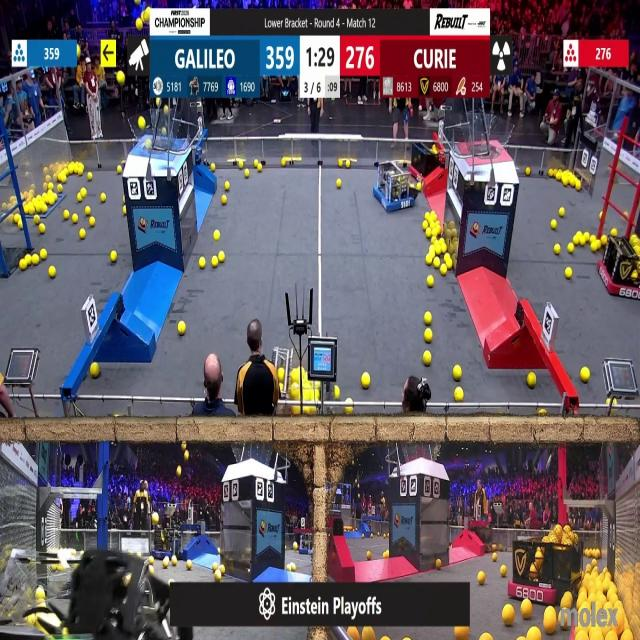ball_airborne: (346, 627, 359, 640), (456, 626, 468, 640), (362, 627, 373, 640), (138, 116, 146, 128), (116, 72, 124, 84), (151, 514, 157, 526), (137, 20, 143, 31), (176, 465, 182, 476), (144, 141, 151, 150), (155, 98, 160, 107), (145, 8, 150, 17), (162, 129, 168, 136), (165, 105, 169, 114), (184, 452, 188, 461)
ball_ground: (502, 605, 514, 626), (522, 601, 532, 619), (529, 629, 543, 640), (361, 374, 370, 389), (290, 368, 300, 381), (454, 364, 462, 380), (92, 362, 100, 377), (424, 328, 432, 342), (528, 374, 536, 388), (582, 367, 590, 381), (455, 387, 463, 400), (423, 352, 431, 365), (424, 312, 431, 326), (178, 321, 185, 335), (479, 570, 486, 584), (432, 256, 440, 268), (18, 261, 26, 272), (592, 242, 600, 253), (48, 267, 55, 279), (346, 406, 354, 416), (214, 570, 222, 580), (278, 367, 284, 380), (427, 276, 434, 287), (110, 251, 117, 262), (565, 269, 572, 280), (562, 175, 569, 186), (212, 256, 218, 268), (335, 386, 341, 398), (218, 252, 225, 262), (213, 232, 220, 242), (32, 254, 39, 264), (441, 266, 448, 276), (292, 408, 299, 418), (200, 257, 206, 268), (40, 249, 46, 260), (500, 565, 506, 576), (426, 255, 433, 264), (212, 562, 219, 571), (435, 560, 441, 570), (186, 560, 192, 570), (555, 244, 561, 254), (568, 244, 574, 254), (39, 223, 45, 233), (426, 230, 432, 240), (435, 246, 441, 256), (601, 236, 607, 246), (25, 205, 31, 215), (482, 634, 492, 640), (442, 244, 448, 254), (26, 255, 32, 265), (83, 208, 90, 216), (559, 208, 565, 217), (172, 557, 178, 566), (72, 214, 78, 223), (64, 211, 70, 220), (164, 559, 170, 568), (58, 183, 64, 192), (290, 564, 296, 573), (445, 254, 451, 263), (91, 216, 96, 226), (552, 219, 557, 229), (579, 238, 584, 248), (383, 552, 389, 560), (100, 192, 106, 200), (492, 554, 498, 562), (244, 170, 250, 178), (80, 188, 86, 196), (610, 230, 616, 238), (524, 168, 530, 176), (221, 197, 227, 205), (546, 170, 552, 178), (76, 192, 82, 200), (585, 234, 591, 242), (47, 183, 53, 191), (556, 173, 562, 181), (430, 212, 436, 220), (417, 182, 422, 191), (575, 181, 580, 190), (448, 261, 453, 270), (423, 220, 428, 229), (256, 166, 262, 173), (572, 237, 578, 244), (80, 230, 84, 240), (346, 161, 351, 169), (35, 215, 40, 223), (239, 162, 244, 170), (424, 212, 429, 220), (224, 181, 228, 190), (338, 179, 342, 188), (538, 411, 544, 417), (0, 375, 4, 384), (280, 384, 284, 393), (119, 165, 124, 172), (211, 165, 216, 172), (339, 161, 344, 168), (90, 172, 94, 180), (282, 160, 286, 168), (366, 553, 370, 561), (17, 220, 21, 228), (591, 236, 596, 242), (122, 207, 125, 216), (217, 547, 220, 553)
goal: (459, 118, 516, 158), (130, 116, 188, 152)
robot_blue: (373, 161, 417, 213), (148, 529, 173, 557), (295, 532, 314, 553)
robot_red: (508, 528, 569, 604), (600, 236, 640, 301), (411, 140, 446, 184), (447, 0, 486, 6)
